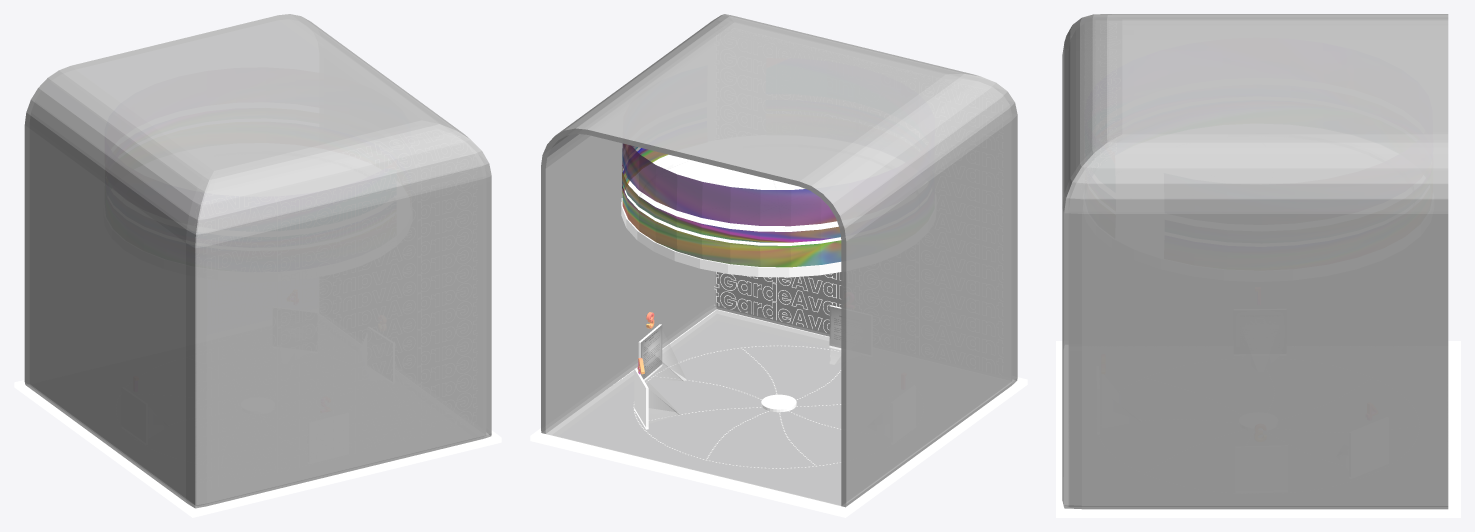
Rendered from house.glb.
3 renders of one model, left to right at view 1: azimuth 30°, elevation 25°; view 2: azimuth 150°, elevation 25°; view 3: azimuth 270°, elevation 25°, orthographic. The views are drawn at different scales.
Parts seen in each view (by area): view 1: Box, floor; view 2: Box, platform, Cylinder, floor, Plane, about3, retroLight3, Plane.007, about4, retroLight4, text3; view 3: Box, floor.
Part boxes in pixels (x1,y1,x2,y2): Box: (24,14,491,508); floor: (14,380,501,517); Box: (541,14,1017,507); platform: (621,154,841,277); Cylinder: (622,143,841,267); floor: (530,307,1027,517); Plane: (714,272,840,332); about3: (638,312,662,380); retroLight3: (647,335,686,380); Plane.007: (633,345,841,468); about4: (634,358,648,429); retroLight4: (643,377,679,422); text3: (642,330,660,376); Box: (1062,14,1448,509); floor: (1056,341,1460,517).
Size of what is drawn, in the model's own units: 32 by 31 by 32.
10 materials, 6 textured.
